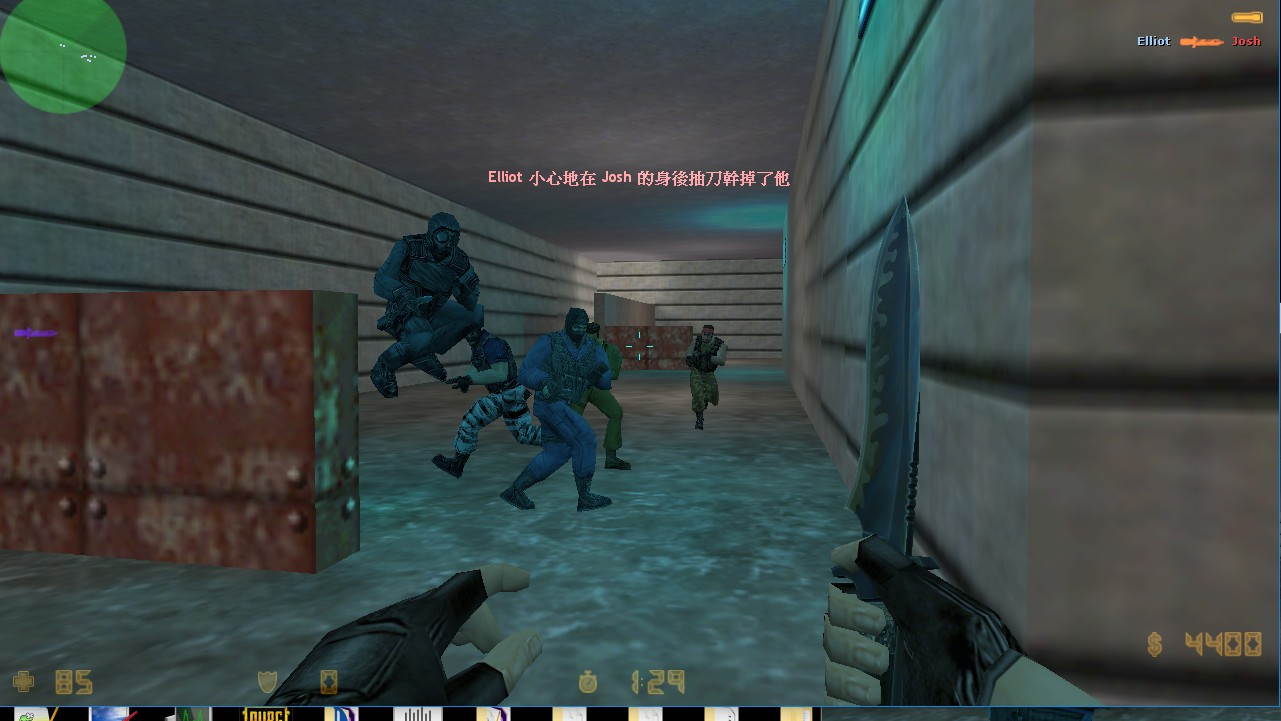person: (365, 211, 479, 398), (524, 303, 612, 517), (457, 326, 537, 474), (574, 321, 644, 476), (680, 313, 733, 431)
